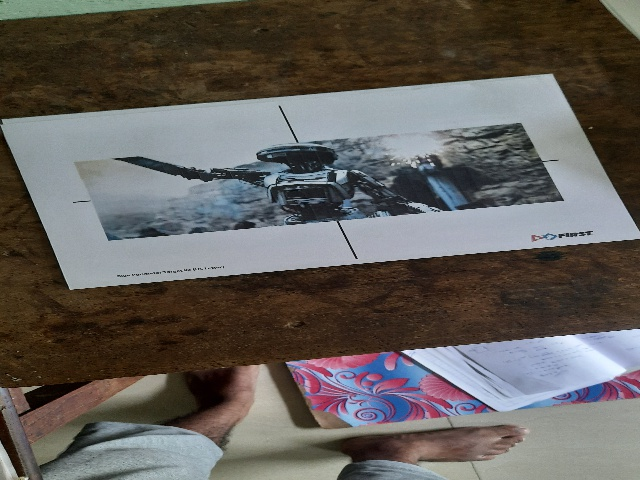bpt2: (9, 99, 615, 248)
